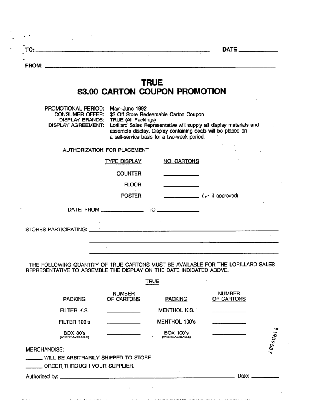textline: (44, 61, 276, 69), (88, 225, 278, 233), (88, 236, 278, 244), (88, 248, 278, 255), (35, 46, 210, 53), (59, 373, 235, 379), (156, 206, 200, 213), (100, 206, 144, 213), (106, 306, 141, 314), (106, 317, 141, 325), (211, 328, 246, 336), (163, 181, 199, 188), (163, 192, 199, 199), (237, 47, 278, 53), (106, 329, 141, 336), (211, 306, 246, 313), (211, 317, 246, 324), (163, 171, 199, 177), (250, 372, 280, 379)
